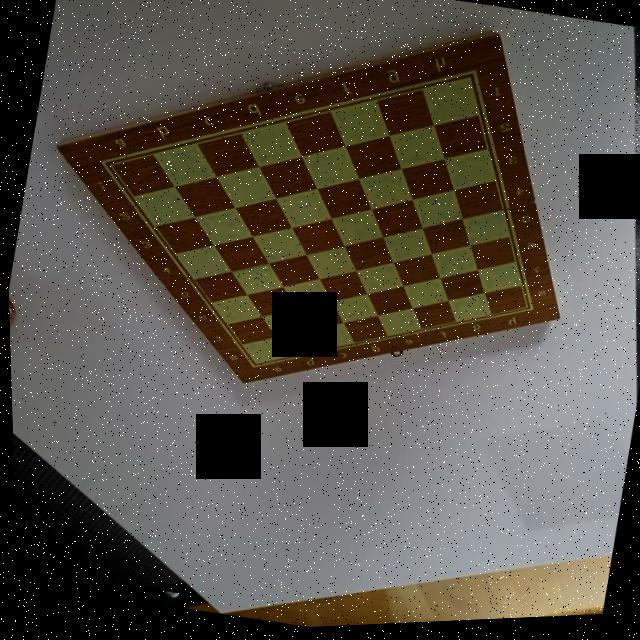chess-table-corners: (454, 67, 484, 91), (514, 302, 542, 325), (241, 358, 268, 381), (95, 156, 117, 174)
